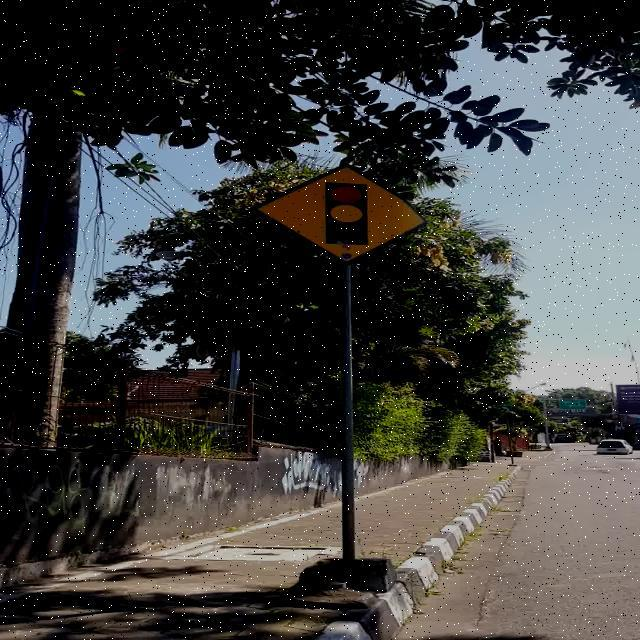Lampu Lalu Lintas: (251, 164, 426, 264)
